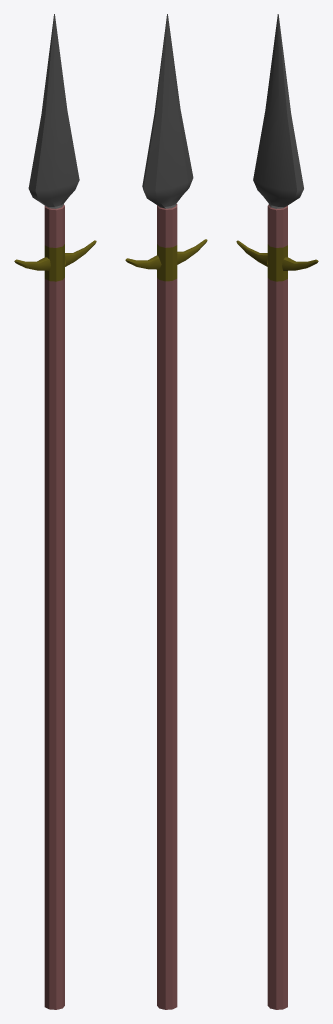
The model's file is Spear.fbx.
The picture shows the model from 3 angles, left to right: view 1: azimuth 30°, elevation 25°; view 2: azimuth 210°, elevation 25°; view 3: azimuth 330°, elevation 25°; orthographic projection.
Parts seen in each view (by area): view 1: pCylinder2, polySurface2, polySurface3; view 2: pCylinder2, polySurface3, polySurface2; view 3: pCylinder2, polySurface3, polySurface2.
Boxes of the visible parts, x1,y1,x2,y2 form: pCylinder2: (28,14,79,1009); polySurface2: (14,257,50,270); polySurface3: (65,240,96,266); pCylinder2: (142,14,193,1009); polySurface3: (125,255,161,269); polySurface2: (177,239,207,264); pCylinder2: (253,14,303,1009); polySurface3: (282,257,318,270); polySurface2: (236,240,267,266).
Size of the model in its own units: 1.81 by 20.87 by 0.4338.
